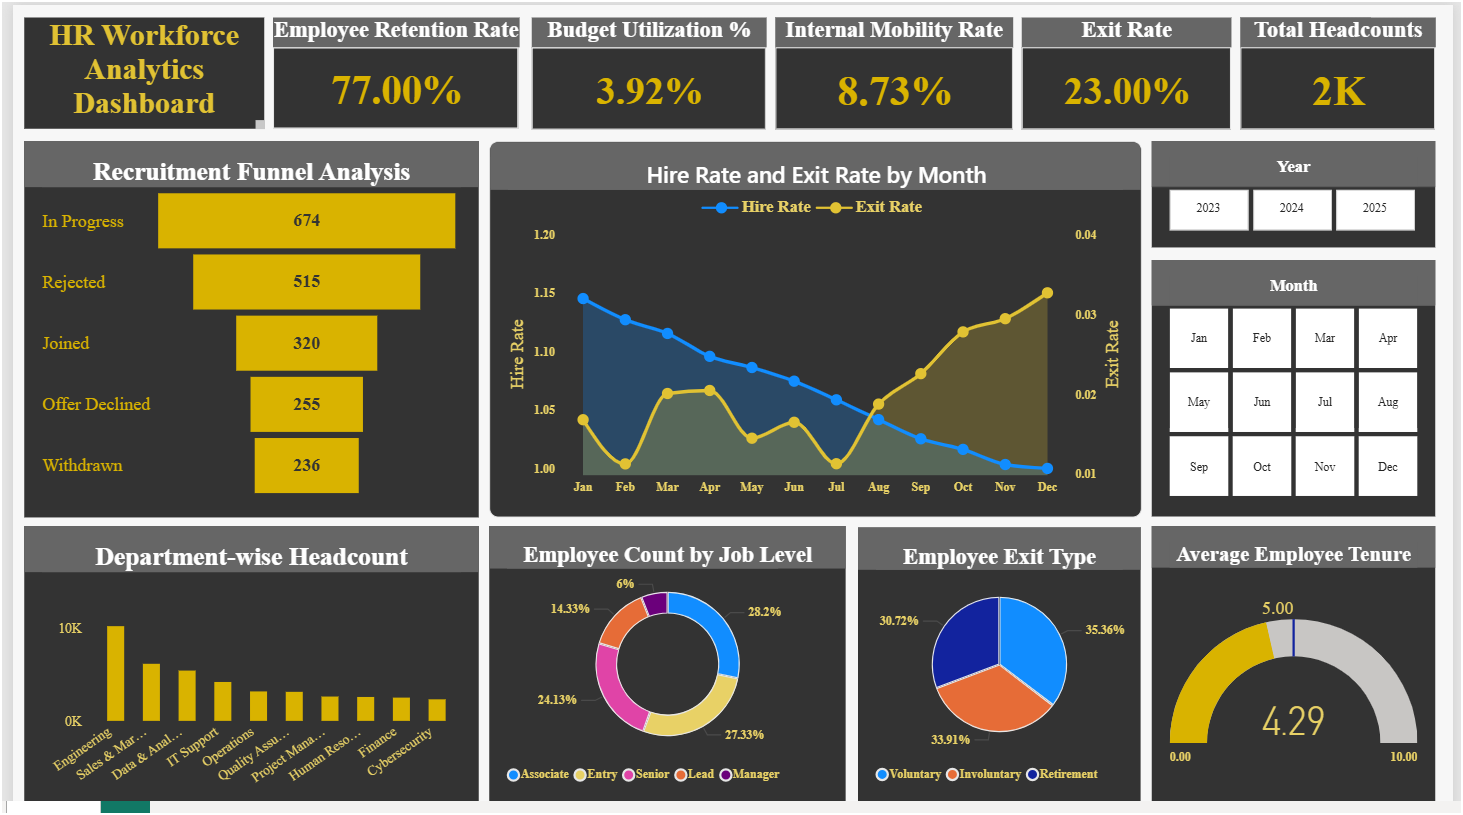

The page's visual inventory and layout, read from the dashboard file:
{"tool":"powerbi","page":{"name":"Page 1","canvas":[1280,720],"ordinal":0},"visuals":[{"type":"cardVisual","title":"Employee Retention Rate","fields":{"Data":["KPIS.Employee Retention Rate"]},"box":[231.1,11.1,218.9,98.9],"z":0},{"type":"cardVisual","title":"Budget Utilization %","fields":{"Data":["KPIS.Budget Utilization %"]},"box":[461.1,11.1,208.9,100],"z":1000},{"type":"cardVisual","title":"Exit Rate","fields":{"Data":["KPIS.Exit Rate"]},"box":[896.7,11.1,186.7,100],"z":2000},{"type":"cardVisual","title":"Internal Mobility Rate","fields":{"Data":["KPIS.Internal Mobility Rate"]},"box":[677.8,11.1,211.1,100],"z":3000},{"type":"cardVisual","title":"Total Headcounts","fields":{"Data":["KPIS.Total Headcount"]},"box":[1090.6,10.9,173.7,100.1],"z":4000},{"type":"funnel","title":"Recruitment Funnel Analysis","fields":{"Category":["recruitment.recruitment_status"],"Y":["CountNonNull(recruitment.candidate_id)"]},"box":[9.7,120.6,404.2,334.2],"z":5000},{"type":"clusteredColumnChart","title":"Department-wise Headcount","fields":{"Category":["departments.department_name"],"Y":["CountNonNull(monthly_employee_snapshot.employee_id)"]},"box":[10,463,404,250],"z":6000},{"type":"pieChart","title":"Employee Exit Type","fields":{"Category":["employee_exits.exit_type"],"Y":["CountNonNull(employee_exits.employee_id)"]},"box":[751.4,464.3,251.4,248.6],"z":7000},{"type":"gauge","fields":{"Y":["KPIS.Average Employee Tenure"]},"box":[1012.2,463.3,252.2,248.9],"z":8000},{"type":"advancedSlicerVisual","fields":{"Values":["Calendar.Year"]},"box":[1012.2,121.1,252.2,94.4],"z":9000},{"type":"advancedSlicerVisual","fields":{"Values":["Calendar.Month"]},"box":[1012.2,226.7,252.2,227.8],"z":10000},{"type":"shape","box":[10,11.1,213.3,98.9],"z":11000},{"type":"textbox","title":"HR Workforce Analytics Dashboard","box":[10,11.1,213.3,98.9],"z":12000},{"type":"donutChart","title":"Employee Count by Job Level","fields":{"Category":["employees.job_level"],"Y":["KPIS.Total Employees"]},"box":[422.9,462.9,317.1,250],"z":13000},{"type":"lineChart","fields":{"Category":["Calendar.Month"],"Y":["KPIS.Hire Rate"],"Y2":["KPIS.Exit Rate"]},"box":[422.9,121.4,580,334.3],"z":14000}]}

Visuals, with their boxes in screenshot pixels (x1, y1, x2, y2), scaled from the page's 1280x720 canvas onto the 1463x815 screenshot:
"Employee Retention Rate" cardVisual: (264, 13, 514, 125)
"Budget Utilization %" cardVisual: (527, 13, 766, 126)
"Exit Rate" cardVisual: (1025, 13, 1238, 126)
"Internal Mobility Rate" cardVisual: (775, 13, 1016, 126)
"Total Headcounts" cardVisual: (1247, 12, 1445, 126)
"Recruitment Funnel Analysis" funnel: (11, 137, 473, 515)
"Department-wise Headcount" clusteredColumnChart: (11, 524, 473, 807)
"Employee Exit Type" pieChart: (859, 526, 1146, 807)
gauge - KPIS.Average Employee Tenure: (1157, 524, 1445, 806)
advancedSlicerVisual - Calendar.Year: (1157, 137, 1445, 244)
advancedSlicerVisual - Calendar.Month: (1157, 257, 1445, 514)
shape: (11, 13, 255, 125)
"HR Workforce Analytics Dashboard" textbox: (11, 13, 255, 125)
"Employee Count by Job Level" donutChart: (483, 524, 846, 807)
lineChart - Calendar.Month x KPIS.Hire Rate: (483, 137, 1146, 516)
